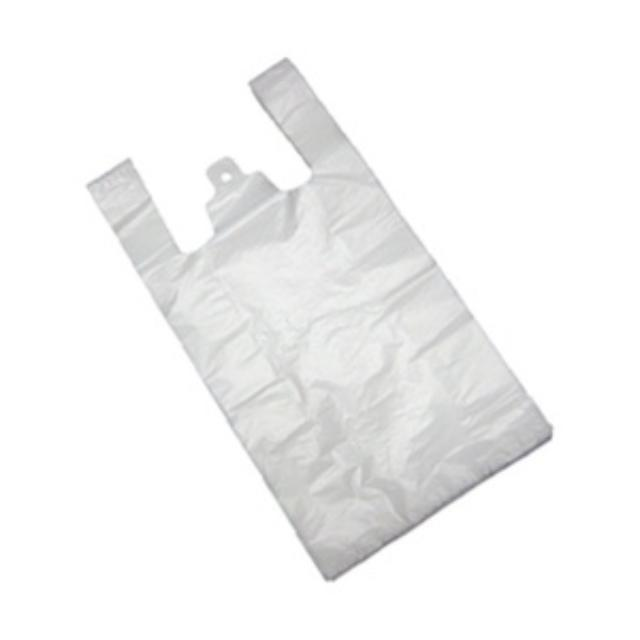plastic: (89, 60, 551, 578)
